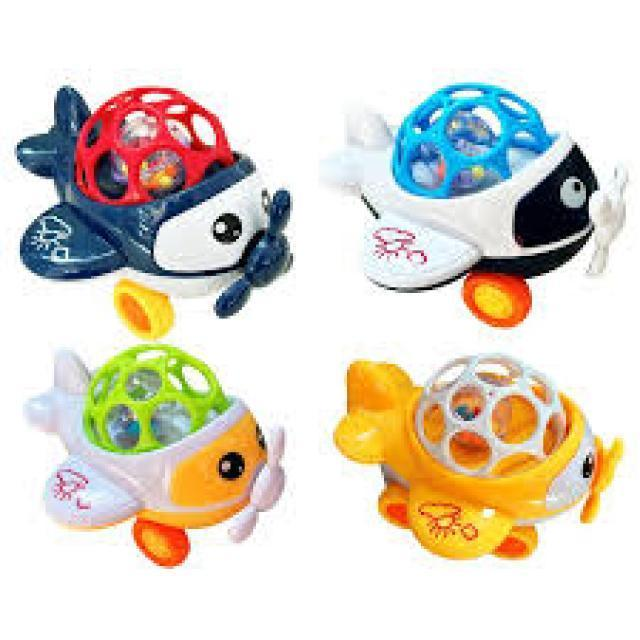hard-toy: (322, 84, 629, 328), (335, 356, 620, 560), (26, 345, 285, 567), (19, 89, 266, 278)
